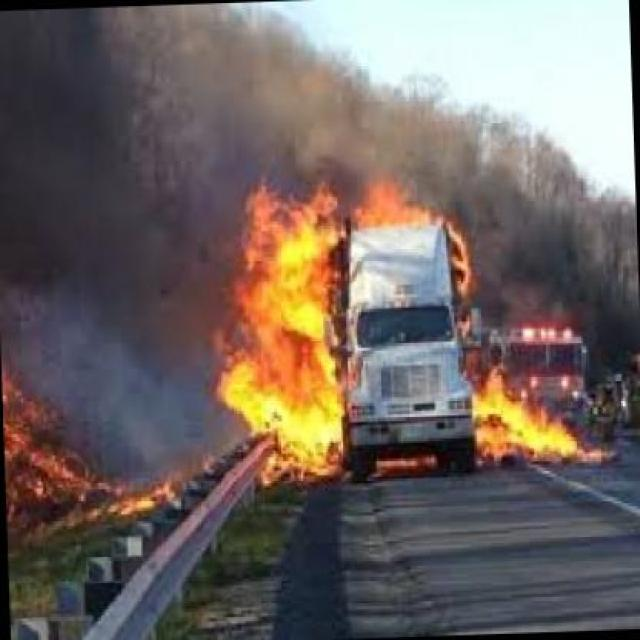Fire: (212, 174, 600, 476)
Smoke: (0, 10, 206, 512), (151, 3, 640, 185), (477, 96, 640, 334)
